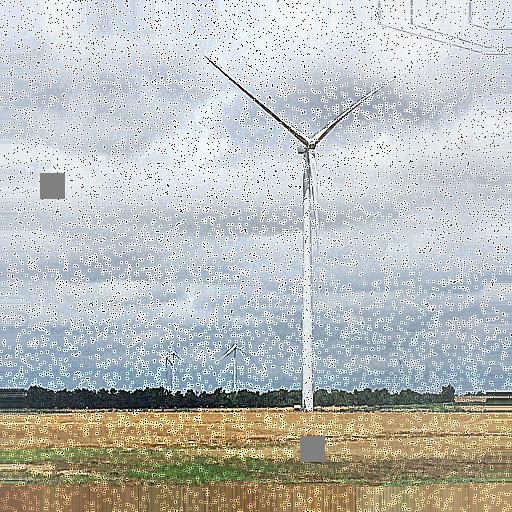wind turbine: (202, 56, 395, 406)
